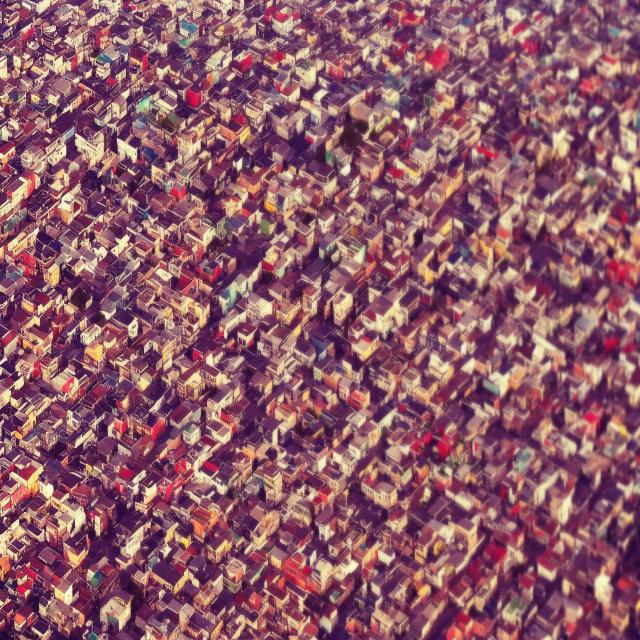airplane: (437, 464, 450, 479), (452, 455, 462, 472), (427, 474, 436, 487), (458, 435, 467, 447), (422, 417, 430, 430), (431, 445, 440, 456), (419, 442, 426, 453), (424, 457, 431, 467)
